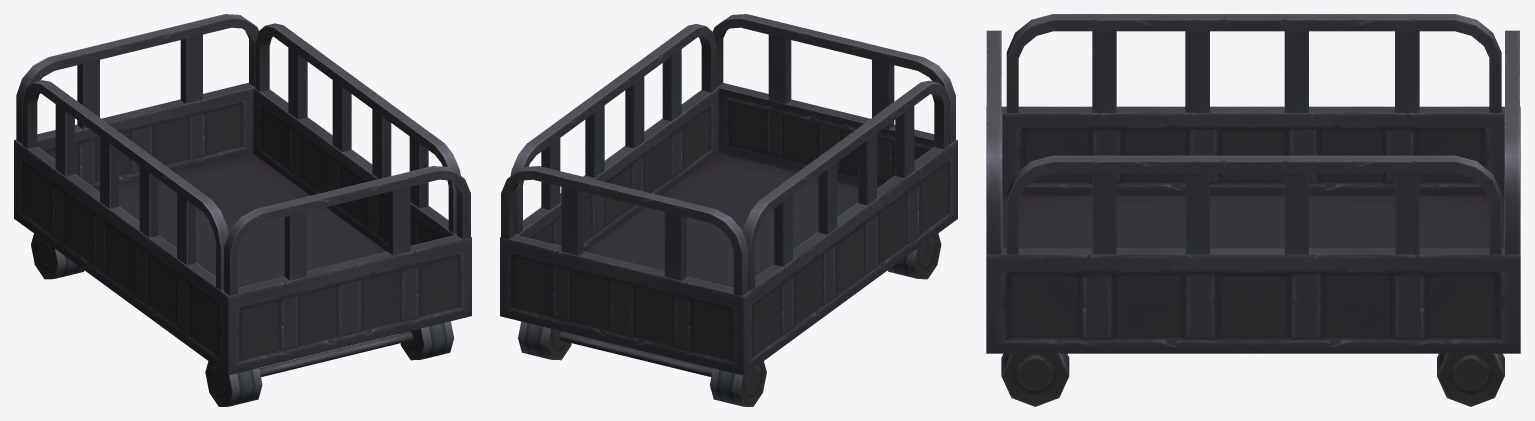
Rendered from scene_malujiakuangdao_xiaoche02.FBX.
3 renders of one model, left to right at view 1: azimuth 30°, elevation 25°; view 2: azimuth 150°, elevation 25°; view 3: azimuth 270°, elevation 25°, orthographic. The views are drawn at different scales.
Parts seen in each view (by area): view 1: scene_malujiakuangdao_xiaoche02; view 2: scene_malujiakuangdao_xiaoche02; view 3: scene_malujiakuangdao_xiaoche02.
Part boxes in pixels (x1,y1,x2,y2): scene_malujiakuangdao_xiaoche02: (14,14,471,406); scene_malujiakuangdao_xiaoche02: (500,14,957,406); scene_malujiakuangdao_xiaoche02: (986,14,1520,406).
Bounding box in the file's own units: 206 × 163 × 313.
